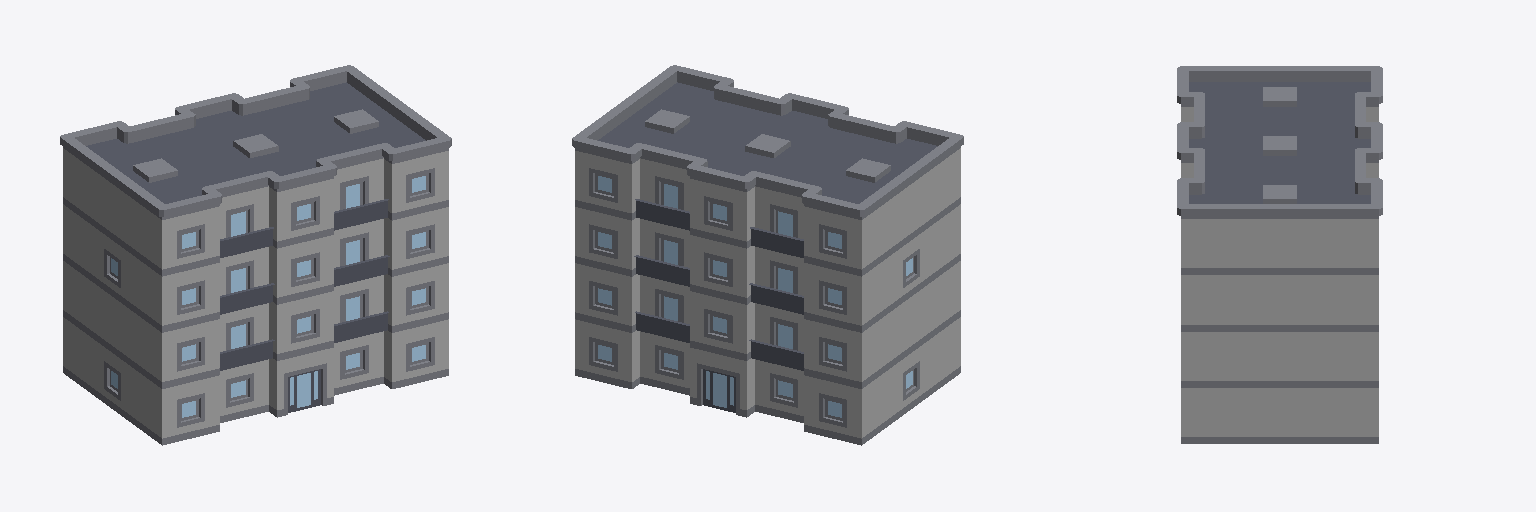
The model's file is city_mall_a.obj.
3 renders of one model, left to right at view 1: azimuth 30°, elevation 25°; view 2: azimuth 150°, elevation 25°; view 3: azimuth 270°, elevation 25°, orthographic.
Parts seen in each view (by area): view 1: mergedBlocks; view 2: mergedBlocks; view 3: mergedBlocks.
Part boxes in pixels (left/top/right/bottom): mergedBlocks: left=60, top=65, right=451, bottom=445; mergedBlocks: left=572, top=65, right=963, bottom=445; mergedBlocks: left=1177, top=66, right=1382, bottom=443.
Bounding box in the file's own units: 1.31 × 1.01 × 0.7936.